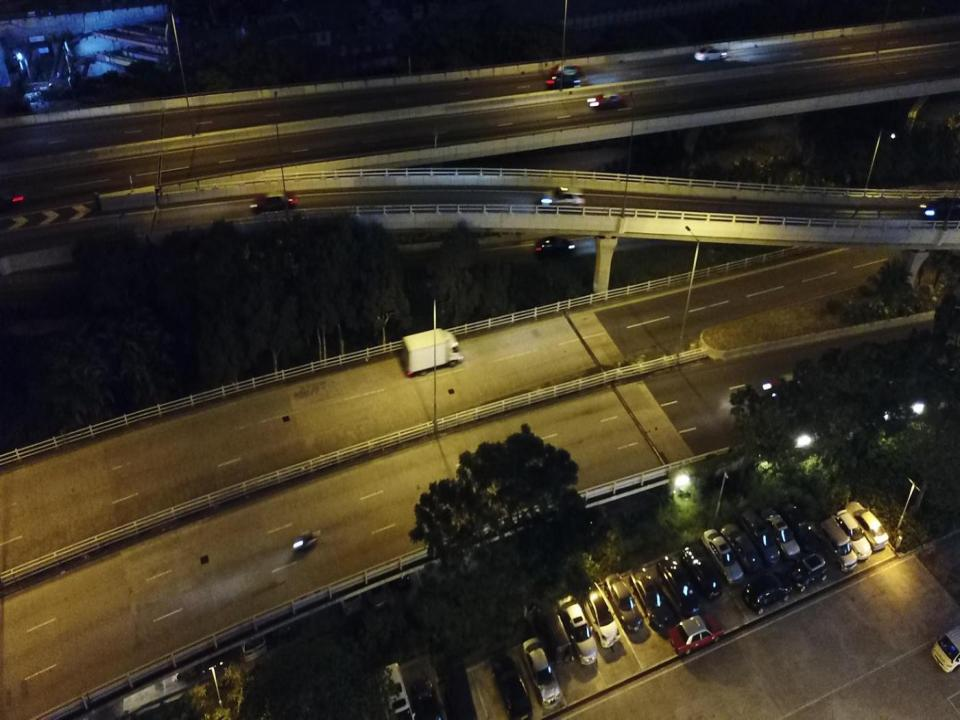car: (557, 596, 598, 665), (656, 555, 701, 616), (582, 582, 621, 649), (493, 656, 534, 719), (523, 637, 560, 706), (534, 601, 572, 668), (669, 610, 724, 655), (629, 569, 670, 629), (844, 501, 890, 552), (681, 543, 722, 600), (702, 528, 743, 585), (605, 572, 643, 632), (742, 570, 792, 615), (720, 522, 763, 574), (818, 517, 858, 571), (762, 507, 801, 559), (781, 501, 821, 551), (835, 509, 872, 561), (788, 552, 827, 592), (410, 678, 444, 719), (766, 376, 814, 400), (250, 191, 297, 214), (541, 186, 585, 210), (535, 236, 575, 258), (588, 92, 628, 110), (547, 73, 580, 91), (550, 63, 583, 81), (694, 45, 727, 60)
truck: (401, 328, 464, 376)
van: (740, 507, 780, 567), (377, 662, 416, 719), (932, 626, 960, 671), (921, 197, 960, 221)
